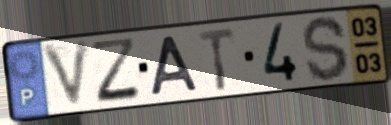4: (261, 20, 301, 86)
A: (149, 33, 202, 98)
S: (300, 14, 351, 84)
T: (197, 26, 238, 93)
V: (39, 37, 94, 113)
Z: (88, 35, 145, 106)
